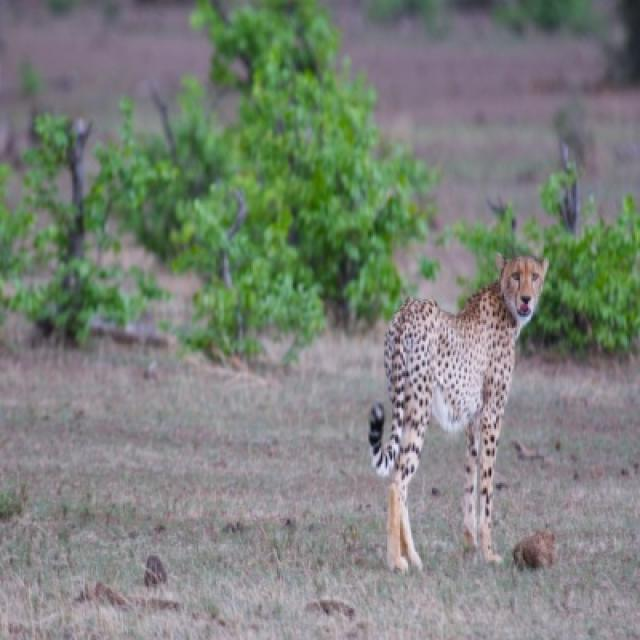Cheetah: (371, 251, 556, 569)
